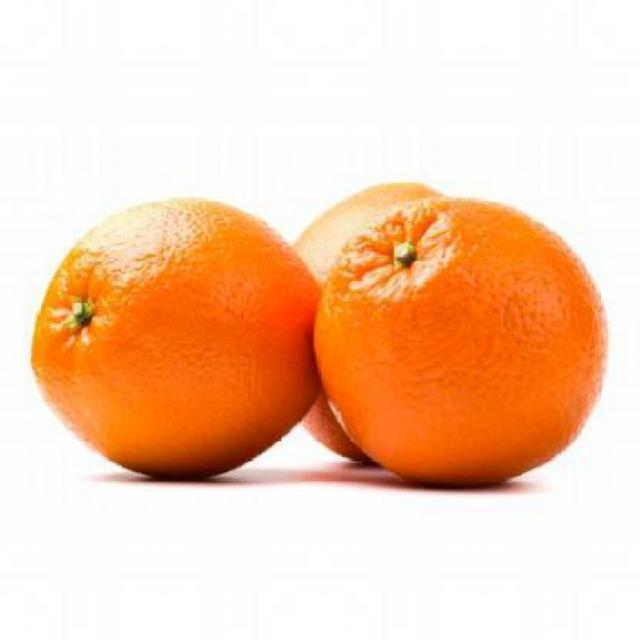Jeruk Sudah Matang: (28, 193, 324, 479), (314, 195, 606, 477)
